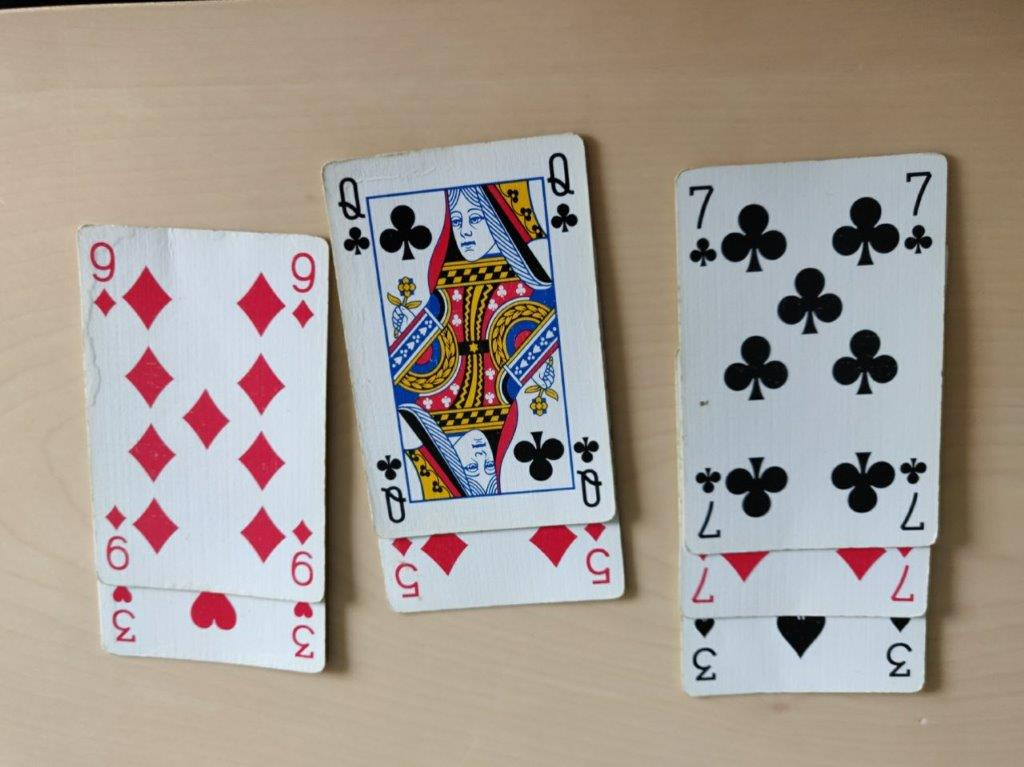7C: (678, 177, 718, 268), (897, 165, 937, 256)
9D: (83, 228, 120, 324), (287, 243, 324, 339)
QC: (333, 170, 376, 258), (537, 147, 580, 235)
